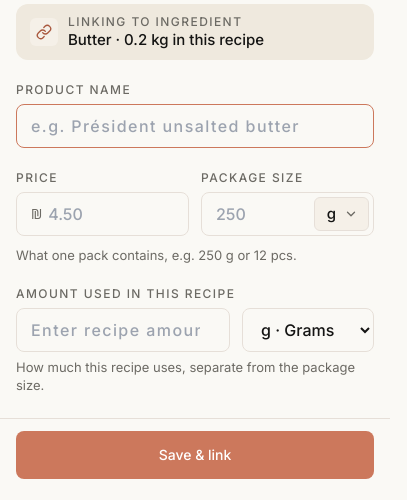
Test: keeps user usage across compatible package changes and converts when its own unit changes
The image size is (407, 500).
Type "150" into the number field labelled "AMOUNT USED IN THIS RECIPE" at {"x": 123, "y": 330}, box [16,308,230,352]
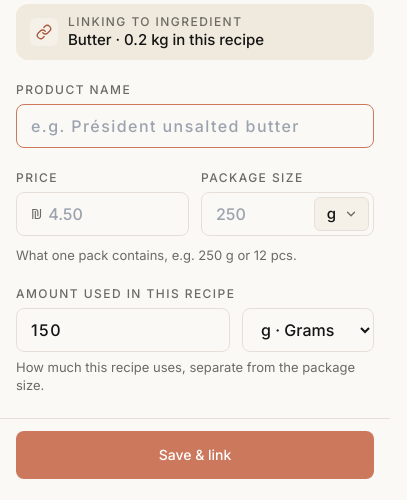
Click the button named "Package unit" at {"x": 341, "y": 214}, box [314,197,369,231]
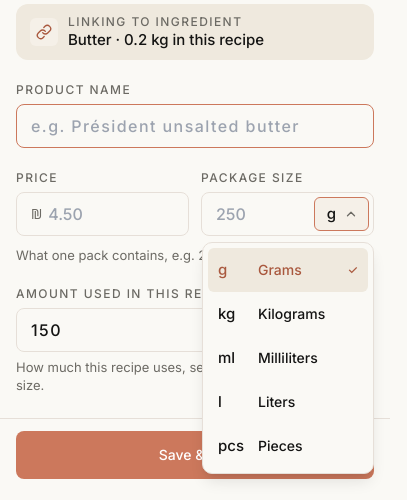
Click the button "kg Kilograms" at {"x": 288, "y": 314}, box [208,292,368,336]
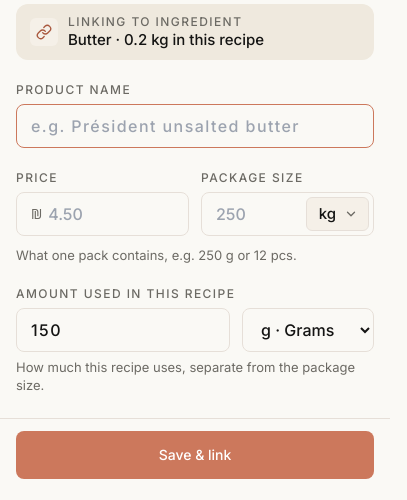
Select "kg · Kilograms" in the dropdown named "Recipe amount unit" at {"x": 308, "y": 330}, box [242,308,374,352]
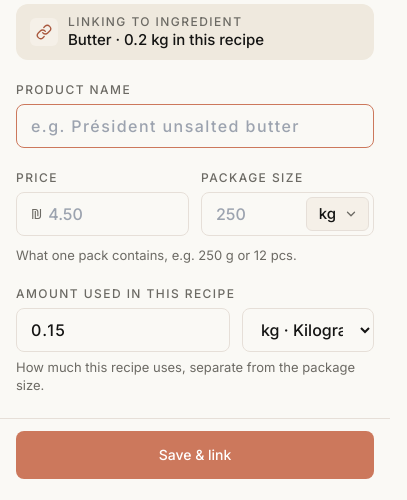
Expected: the number field labelled "AMOUNT USED IN THIS RECIPE" holds "0.15", [16,308,230,352]
